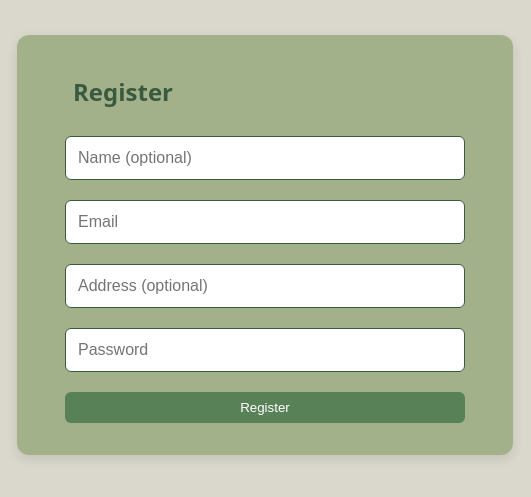
it: Register Component › displays error message when registration fails
Type "bad@example.com" into the field with placeholder "Email".
click(265, 222); type("bad@example.com")  # box x1=65 y1=200 x2=465 y2=244
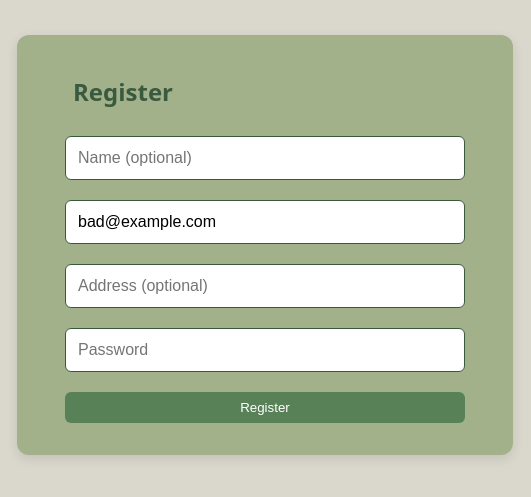
Type "badpass" into the password field with placeholder "Password".
click(265, 350); type("badpass")  # box x1=65 y1=328 x2=465 y2=372
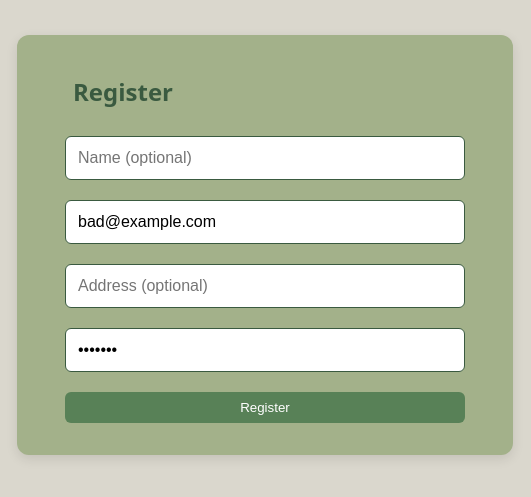
Click the button "Register".
click(265, 408)  # box x1=65 y1=392 x2=465 y2=423
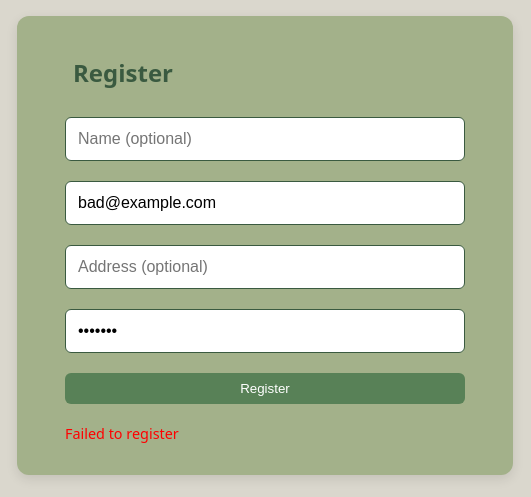
Now the text "Failed to register" is shown, box x1=65 y1=424 x2=179 y2=442
